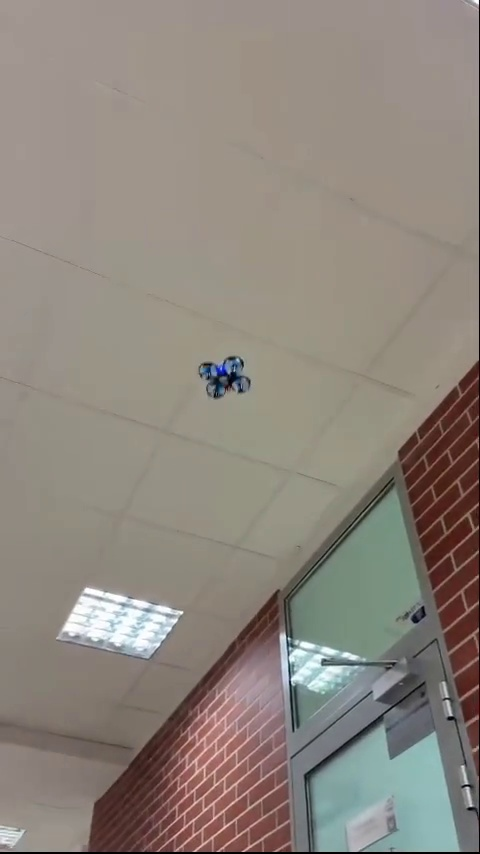drone: (200, 357, 253, 397)
